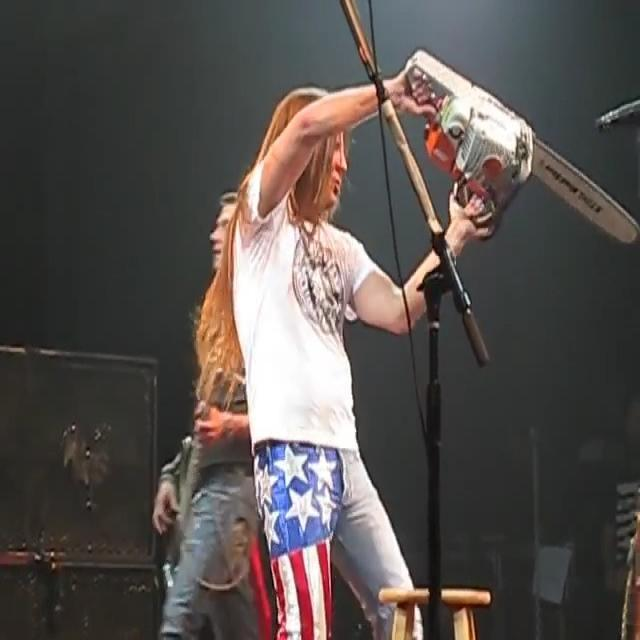Chainsaw: (379, 40, 640, 252)
